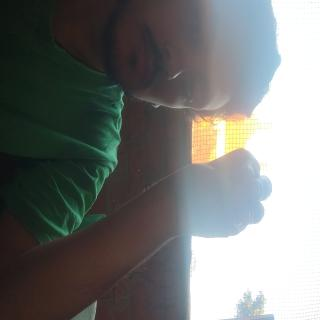HA: (106, 59, 187, 210)
